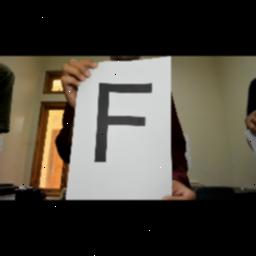f: (90, 80, 158, 170)
